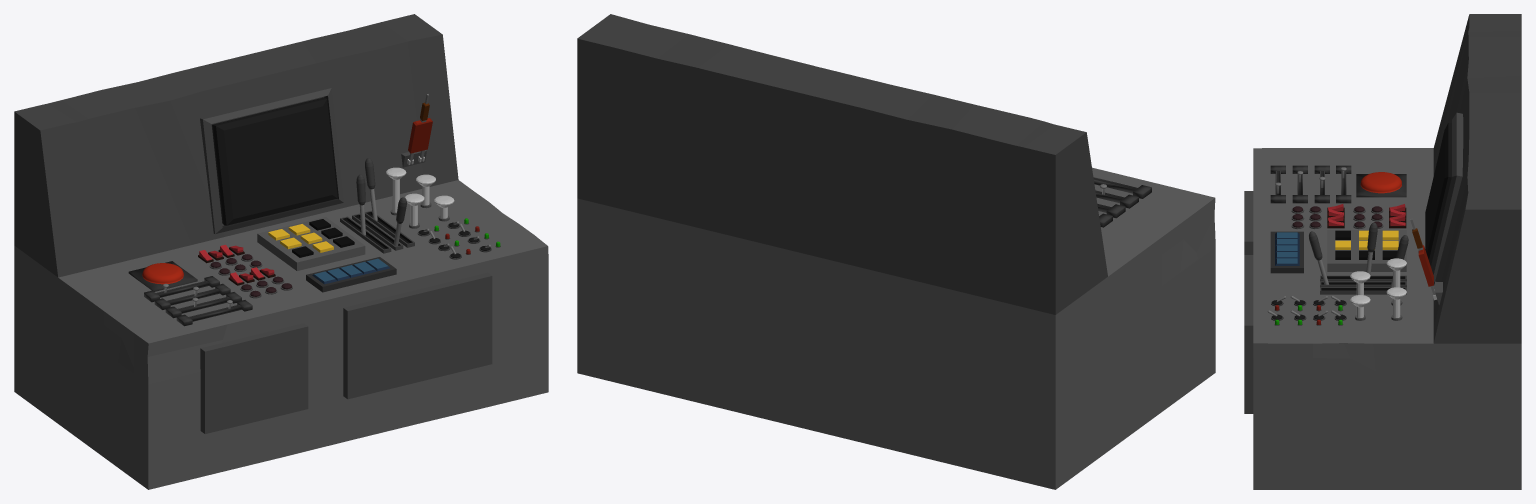
Rendered from mesa quebrada inteira.fbx.
The picture shows the model from 3 angles, left to right: view 1: azimuth 30°, elevation 25°; view 2: azimuth 150°, elevation 25°; view 3: azimuth 270°, elevation 25°; orthographic projection. The views are drawn at different scales.
Visible parts, largest first — view 1: Mesa_Quebrada, Monitor Quadrado.002, Tampa.001, Tampa.005, Pad.001, Sequencia.001, Botao Grande.001, Alavanca_2.001, Alavanca_3.001, Alavanca_2.003, Alavanca_2.002, Slider.003 (+3 smaller); view 2: Mesa_Quebrada; view 3: Mesa_Quebrada, Monitor Quadrado.002, Pad.001, Tampa.001, Sequencia.001, Botao Grande.001, Alavanca_2.002, Alavanca_2.001, Alavanca_2.003, Tampa.005, Alavanca_3.001, Slider.003 (+6 smaller).
Part boxes in pixels (bbox=[...]): Mesa_Quebrada: bbox=[14, 14, 548, 489]; Monitor Quadrado.002: bbox=[200, 87, 343, 233]; Tampa.001: bbox=[343, 272, 492, 399]; Tampa.005: bbox=[200, 323, 308, 433]; Pad.001: bbox=[257, 217, 365, 270]; Sequencia.001: bbox=[306, 257, 396, 292]; Botao Grande.001: bbox=[128, 261, 197, 291]; Alavanca_2.001: bbox=[340, 174, 391, 253]; Alavanca_3.001: bbox=[408, 94, 432, 162]; Alavanca_2.003: bbox=[364, 158, 414, 247]; Alavanca_2.002: bbox=[352, 197, 406, 250]; Slider.003: bbox=[176, 300, 252, 326]; Mesa_Quebrada: bbox=[577, 14, 1215, 489]; Mesa_Quebrada: bbox=[1253, 14, 1521, 489]; Monitor Quadrado.002: bbox=[1425, 112, 1463, 281]; Pad.001: bbox=[1327, 230, 1406, 271]; Tampa.001: bbox=[1244, 255, 1253, 413]; Sequencia.001: bbox=[1270, 231, 1303, 273]; Botao Grande.001: bbox=[1356, 172, 1406, 197]; Alavanca_2.002: bbox=[1309, 231, 1406, 287]; Alavanca_2.001: bbox=[1320, 222, 1406, 281]; Alavanca_2.003: bbox=[1320, 235, 1408, 294]; Tampa.005: bbox=[1244, 191, 1253, 254]; Alavanca_3.001: bbox=[1410, 219, 1435, 295]; Slider.003: bbox=[1270, 165, 1285, 203].
Size of the model in its own units: 1854 by 1241 by 1111.
